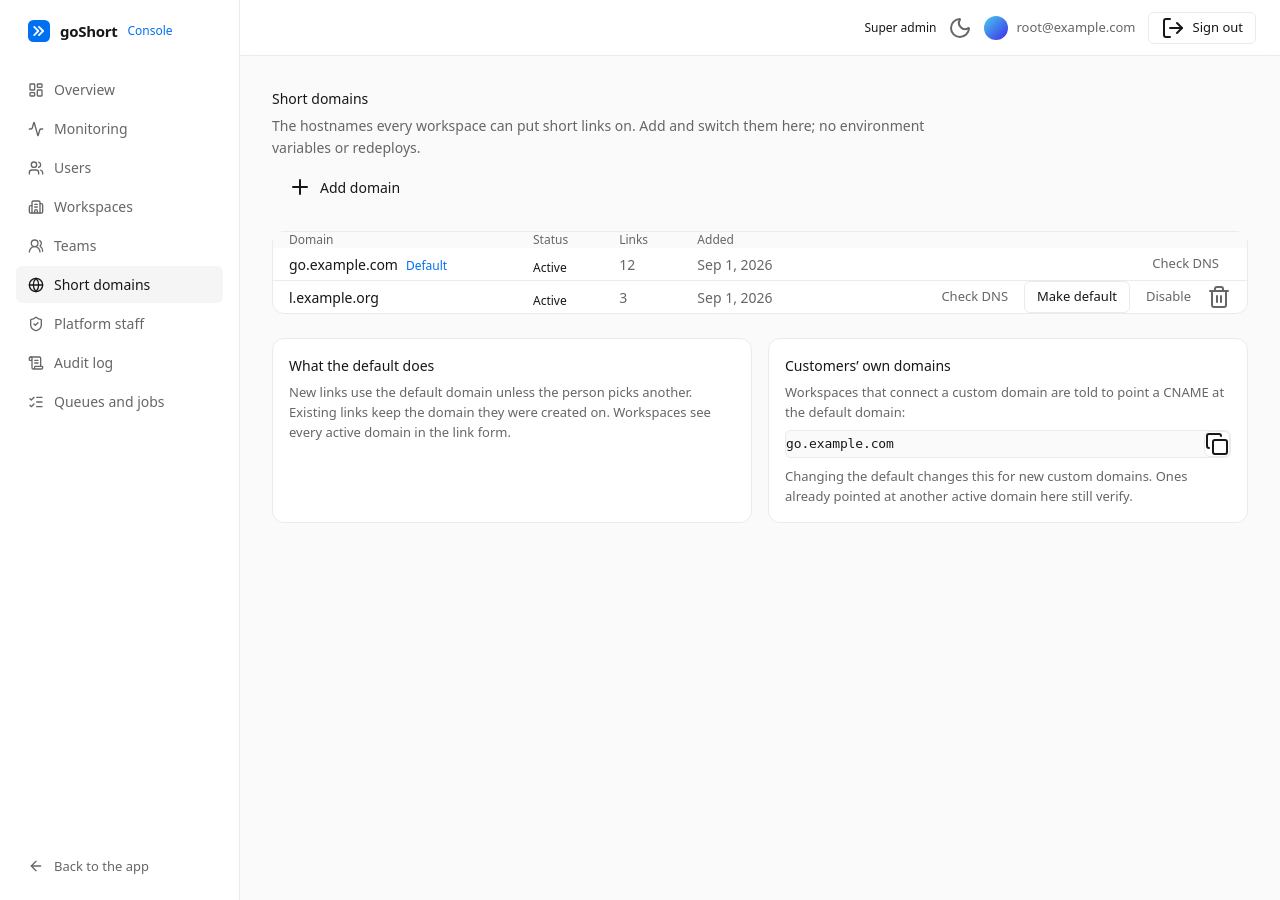
Test: short domains › disabling warns how many links stop working; the API’s refusal is shown, not swallowed
The width and height of the screenshot is (1280, 900).
Click the button with aria-label "Disable l.example.org" at (1168, 297), box [1134,281,1203,313]
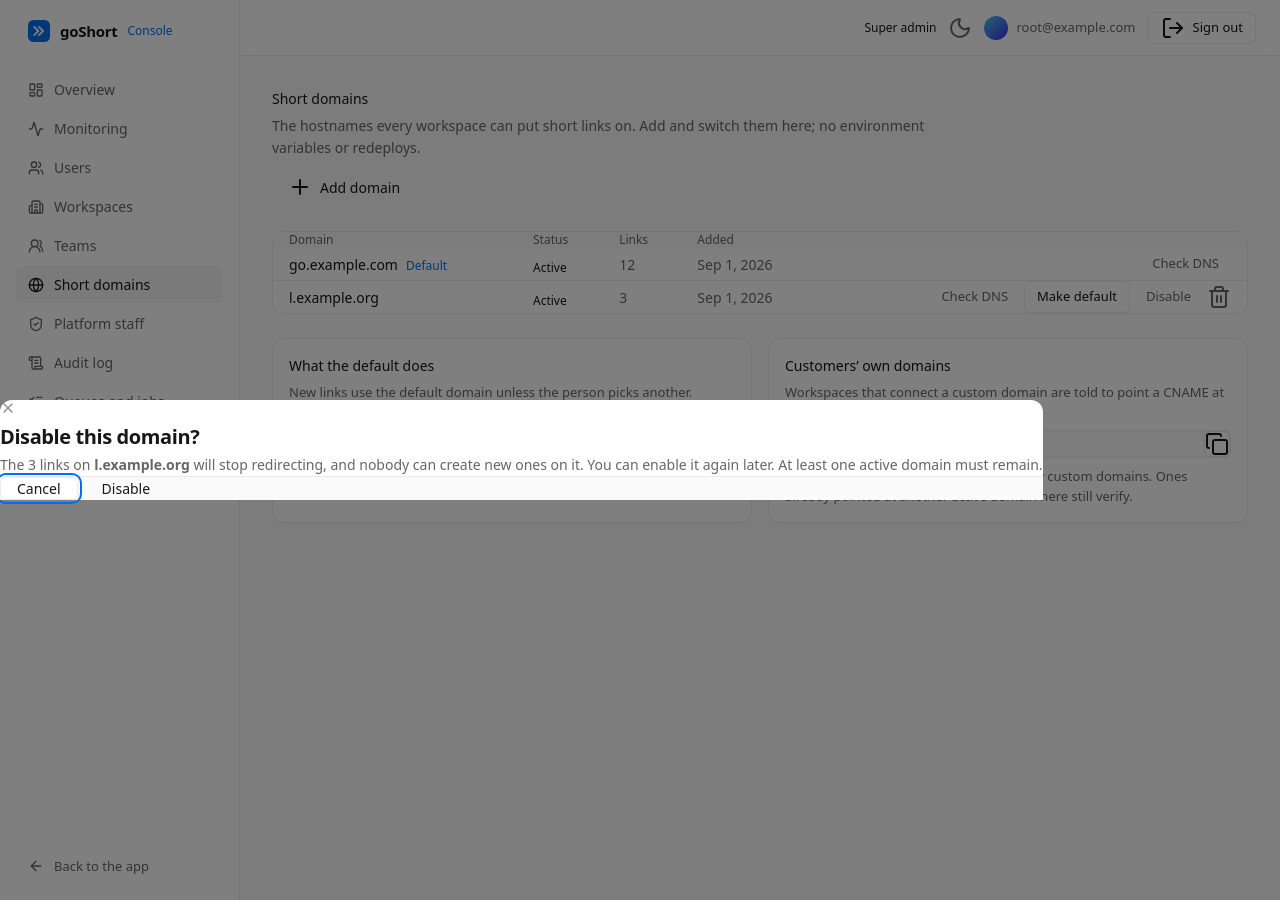
Expected: the dialog shows "3 links on l.example.org will stop redirecting", [0,400,1043,500]
Click the button "Disable" at (126, 488), box [86,477,166,500]
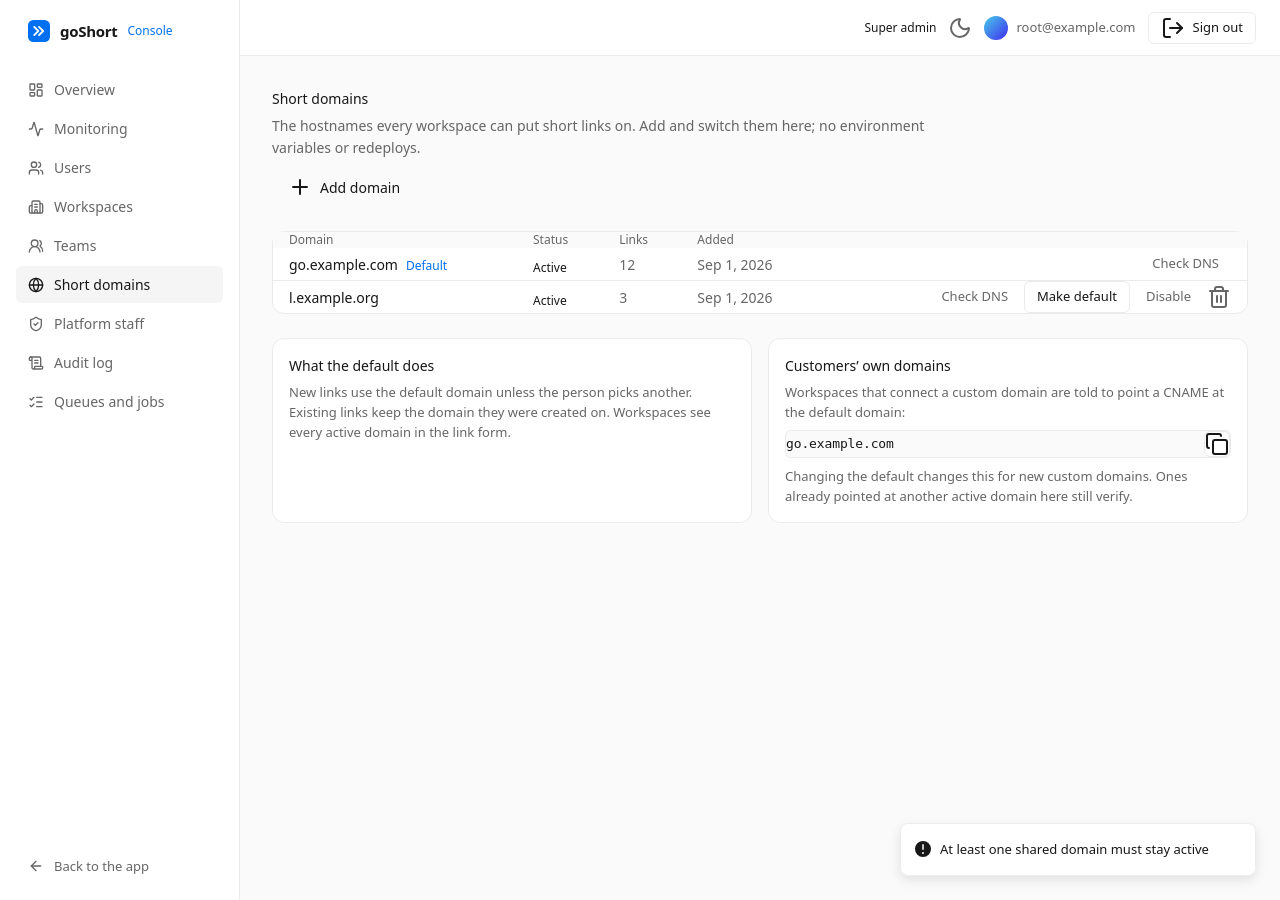
Expected: the text "At least one shared domain must stay active" is shown, [940,840,1209,859]
